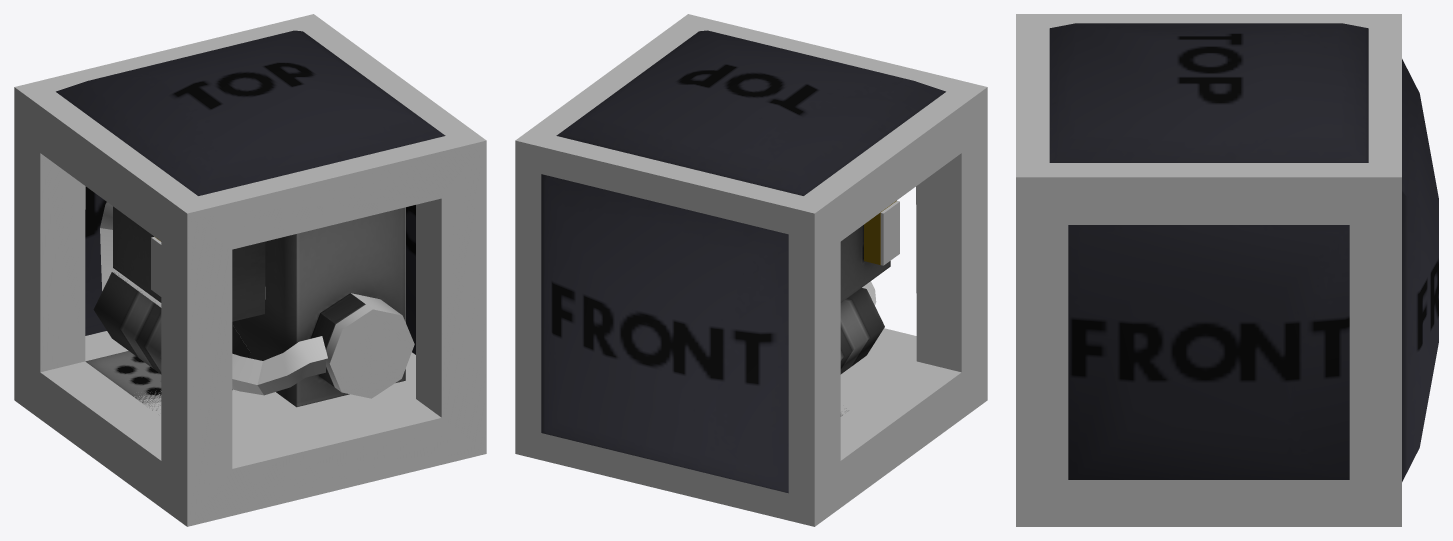
File: obj_gyro_off_noarrows.dae
3 views of the same model, side by side, from view 1: azimuth 30°, elevation 25°; view 2: azimuth 150°, elevation 25°; view 3: azimuth 270°, elevation 25° (orthographic). The views are drawn at different scales.
Parts seen in each view (by area): view 1: obj_logicgate_off.002, obj_gyro_off, obj_logicgate_off.001, obj_logicgate_off; view 2: obj_gyro_off, obj_logicgate_off.002, obj_logicgate_off.001; view 3: obj_logicgate_off, obj_logicgate_off.002, obj_gyro_off, obj_logicgate_off.001.
Boxes of the visible parts, x1=… form: obj_logicgate_off.002: x1=14, y1=14, x2=486, y2=526; obj_gyro_off: x1=56, y1=30, x2=445, y2=410; obj_logicgate_off.001: x1=14, y1=87, x2=483, y2=526; obj_logicgate_off: x1=406, y1=205, x2=415, y2=354; obj_gyro_off: x1=541, y1=30, x2=945, y2=493; obj_logicgate_off.002: x1=515, y1=14, x2=986, y2=526; obj_logicgate_off.001: x1=814, y1=87, x2=987, y2=526; obj_logicgate_off: x1=1068, y1=225, x2=1349, y2=479; obj_logicgate_off.002: x1=1016, y1=14, x2=1401, y2=526; obj_gyro_off: x1=1049, y1=23, x2=1438, y2=481; obj_logicgate_off.001: x1=1016, y1=177, x2=1401, y2=526.
Bounding box in the file's own units: 1.04 × 1.1 × 1.1.
